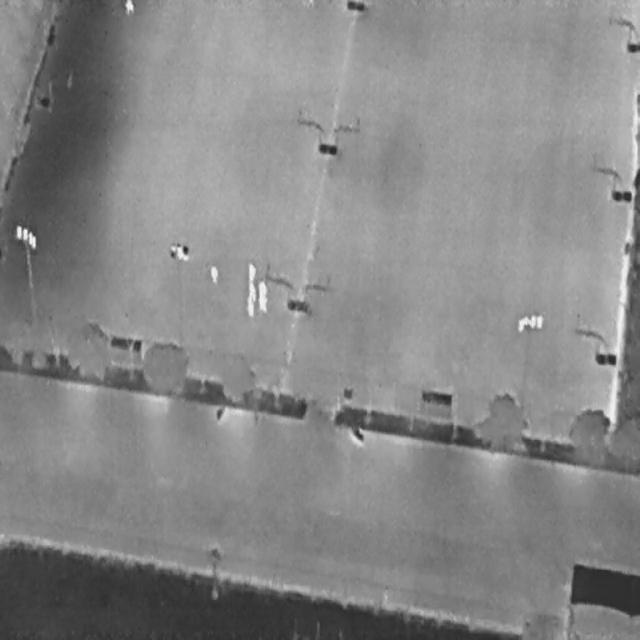Person: (245, 294, 254, 316), (257, 280, 266, 301), (258, 292, 267, 312), (247, 263, 255, 285), (248, 282, 256, 302), (209, 265, 217, 283), (126, 0, 132, 14)
